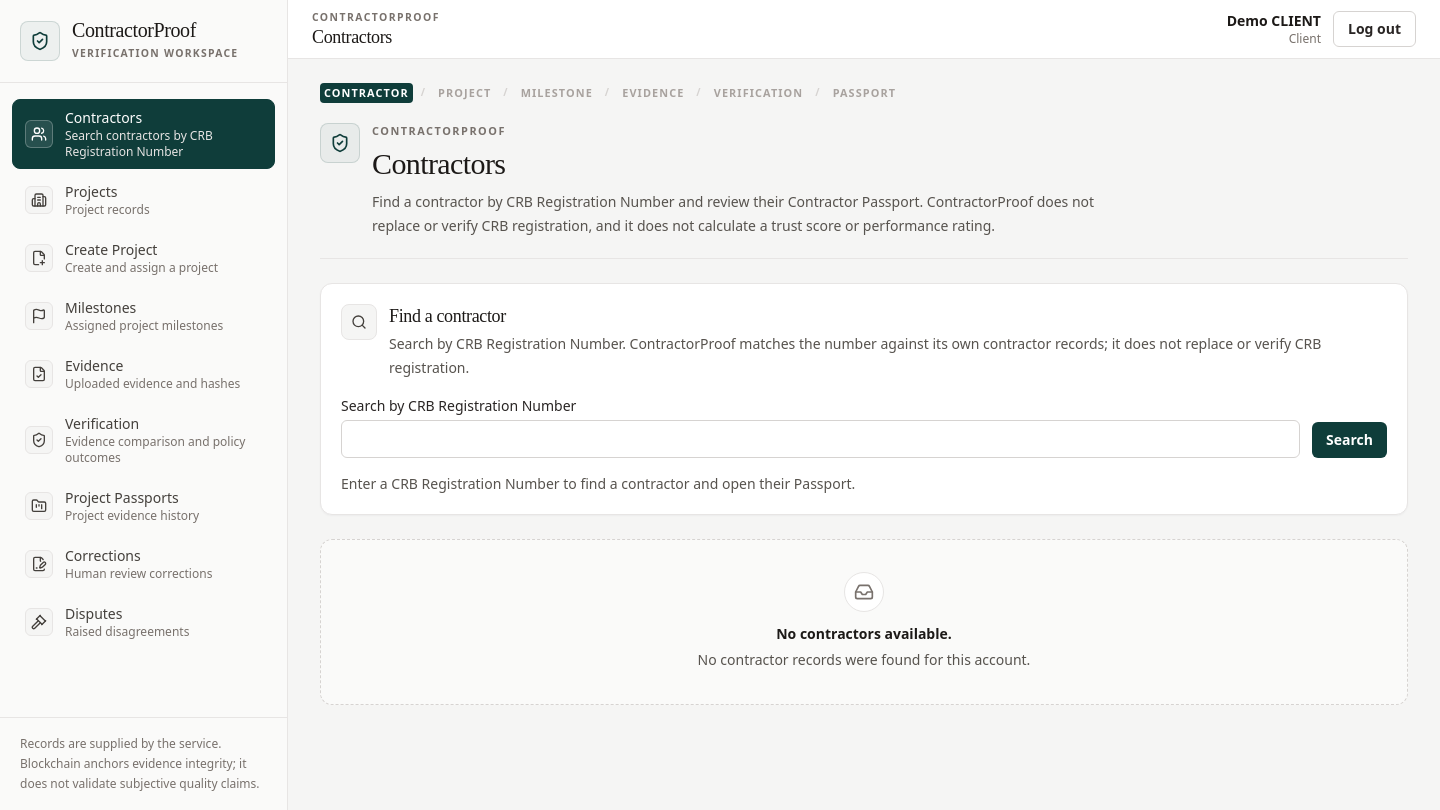
contractor discovery by CRB Registration Number › distinguishes a failed search from an empty result
Type "CRB-204" into the field labelled "Search by CRB Registration Number".
click(821, 440); type("CRB-204")  # box [341, 420, 1300, 458]
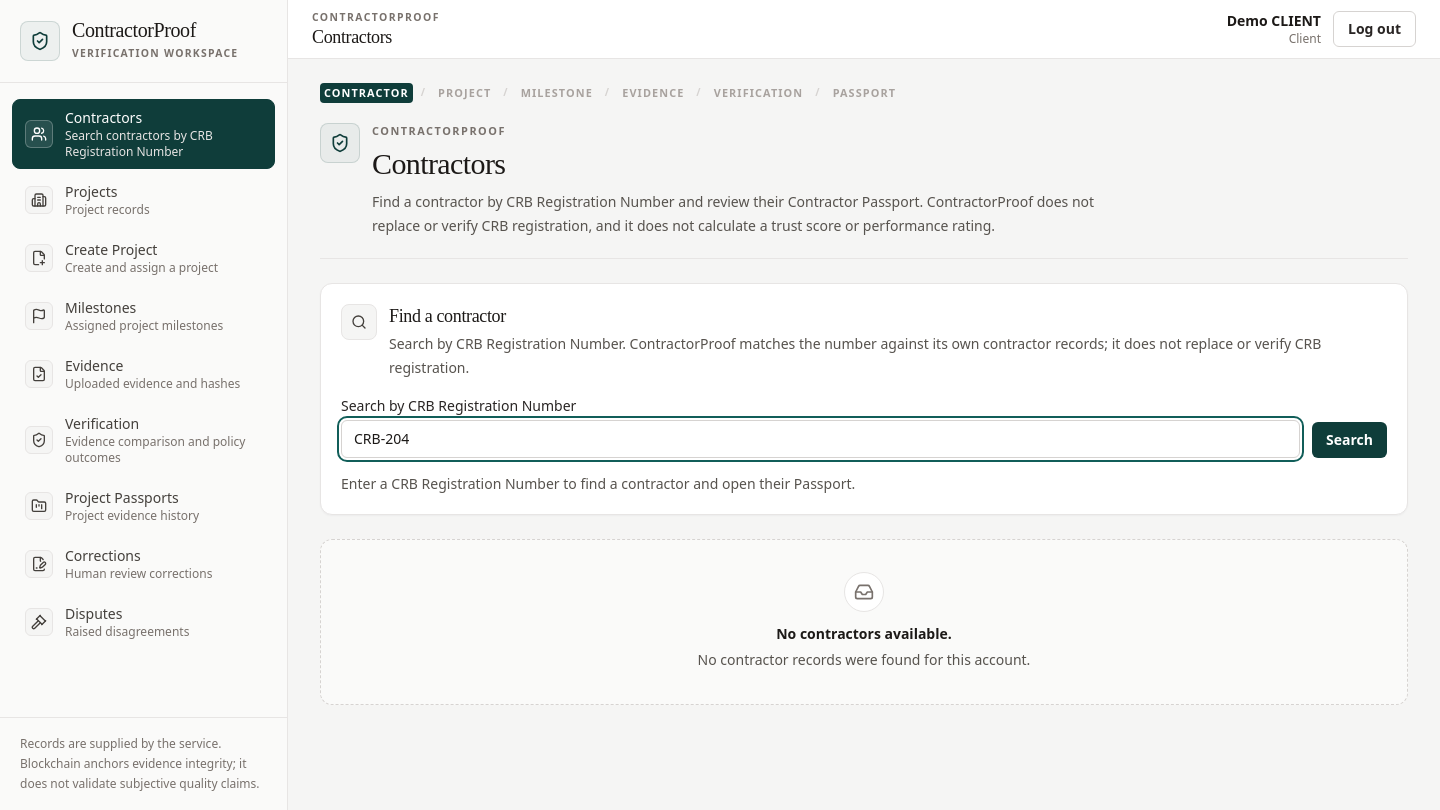
Click the button "Search".
click(1350, 440)  # box [1312, 422, 1387, 458]
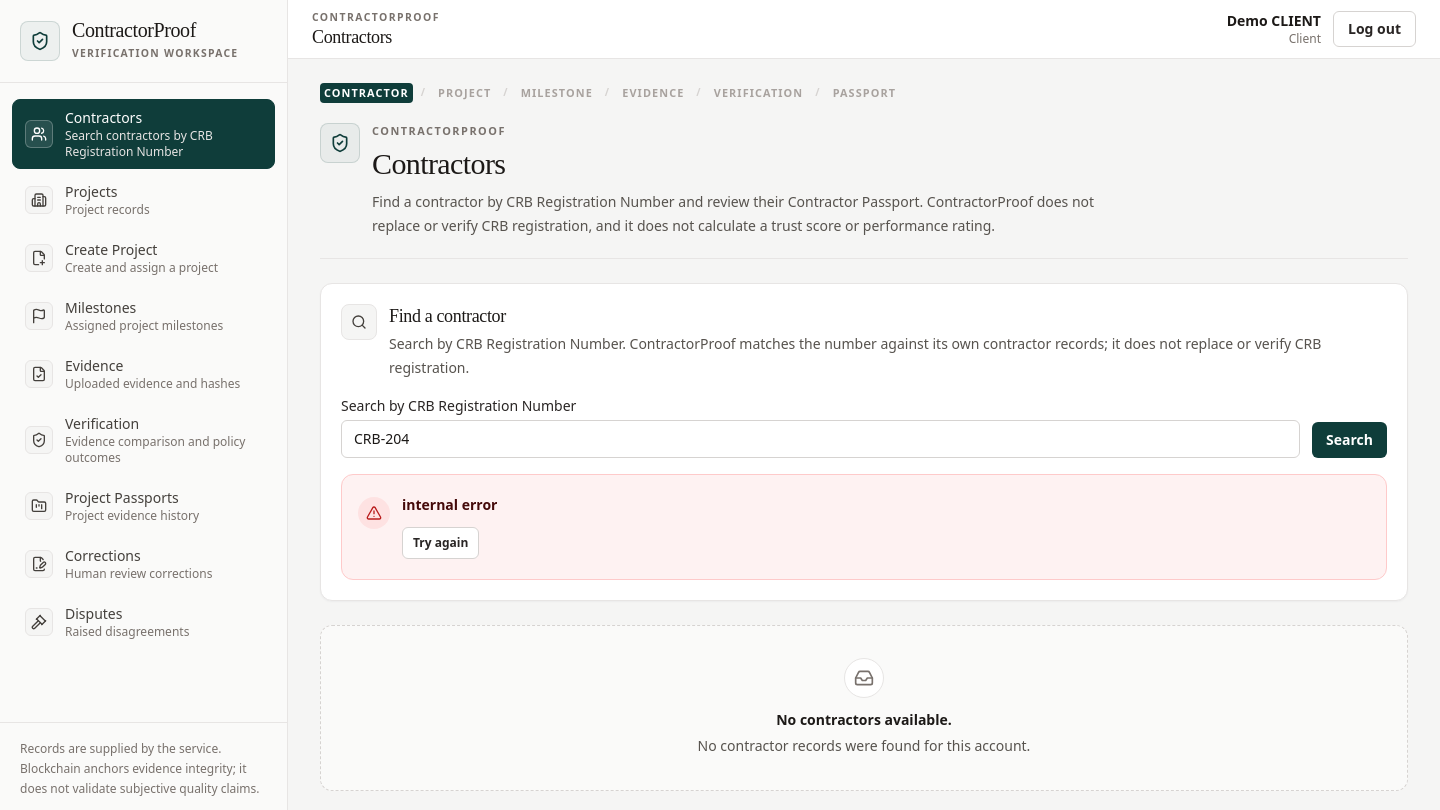
Check: the message "internal error Try again" is shown, box [341, 474, 1387, 580]
